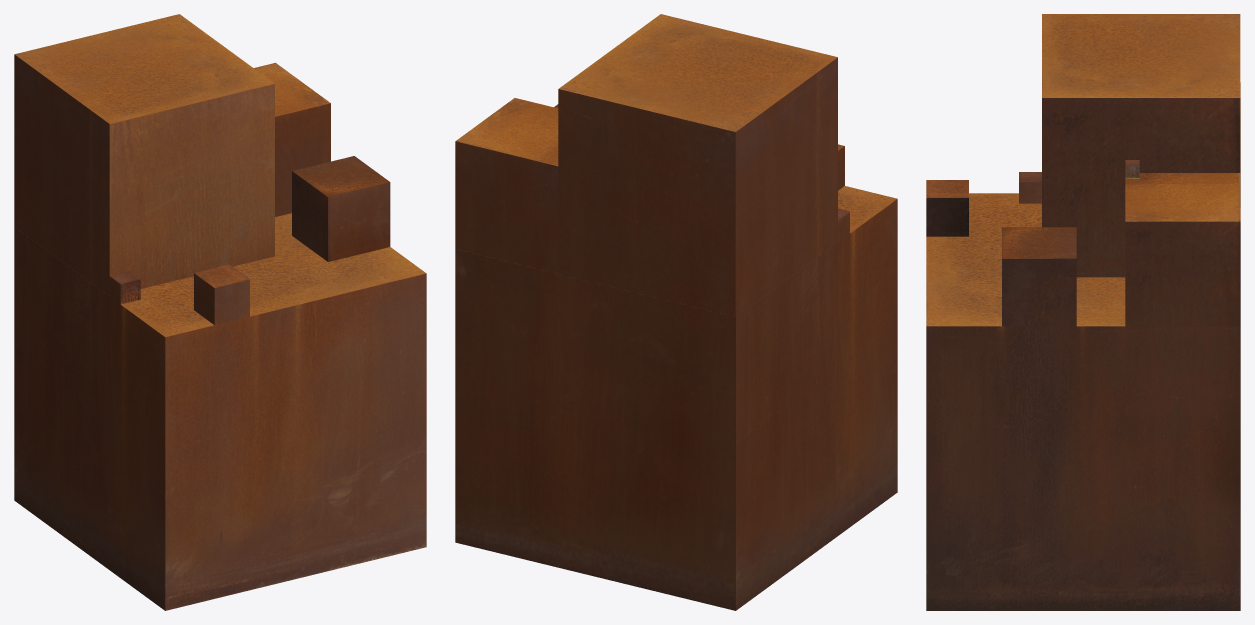
3 views of the same model, side by side, from view 1: azimuth 30°, elevation 25°; view 2: azimuth 150°, elevation 25°; view 3: azimuth 270°, elevation 25° (orthographic). The views are drawn at different scales.
Parts seen in each view (by area): view 1: cube6, cube1, cube3, cube2, cube4, cube5; view 2: cube6, cube1, cube2; view 3: cube6, cube1, cube2, cube3, cube4, cube5.
Boxes of the visible parts, box(x1,y1,x2,y2) form: cube6: box(14, 213, 426, 610); cube1: box(14, 14, 274, 295); cube3: box(292, 156, 390, 261); cube2: box(254, 63, 330, 216); cube4: box(194, 264, 249, 325); cube5: box(109, 271, 140, 304); cube6: box(455, 186, 897, 610); cube1: box(558, 14, 837, 317); cube2: box(455, 98, 558, 273); cube6: box(926, 193, 1240, 610); cube1: box(1042, 14, 1240, 277); cube2: box(1125, 173, 1240, 326); cube3: box(1002, 227, 1076, 326); cube4: box(926, 180, 968, 236); cube5: box(1019, 172, 1041, 203).
Size of the model in its own units: 1.51 by 2.46 by 1.51.
Materials: 7 (7 with a texture image).
